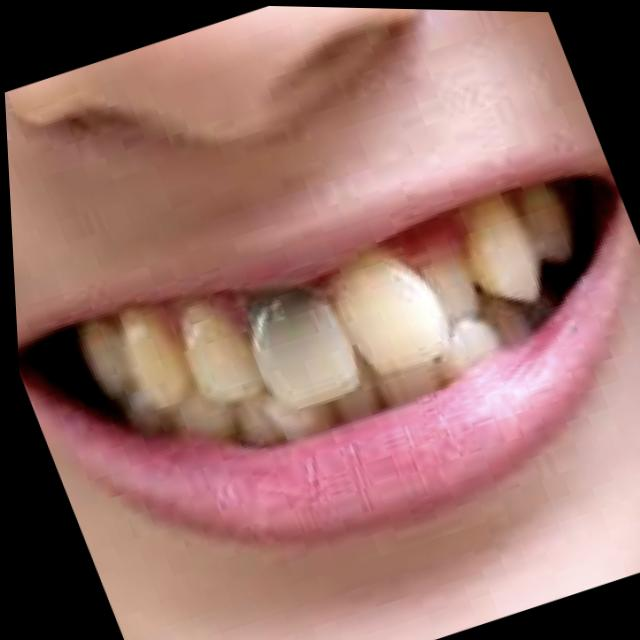tooth-discoloration: (252, 290, 359, 406)
